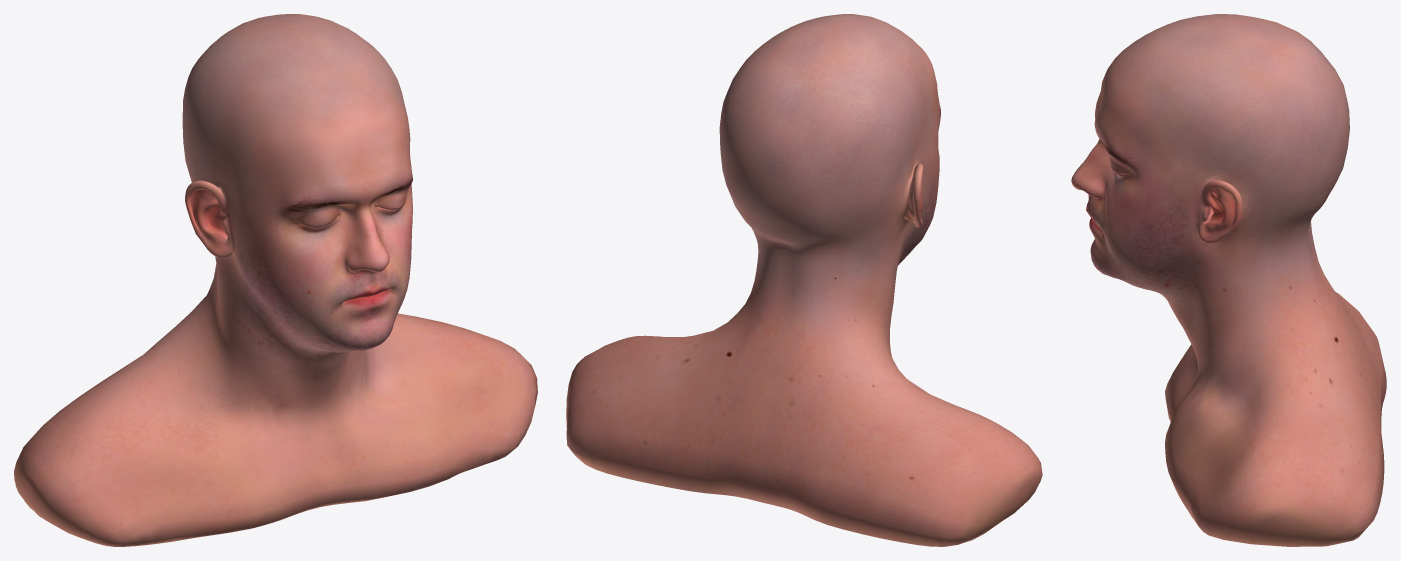
Rendered from head_revised.obj.
3 views of the same model, side by side, from view 1: azimuth 30°, elevation 25°; view 2: azimuth 150°, elevation 25°; view 3: azimuth 270°, elevation 25° (orthographic). The views are drawn at different scales.
Parts seen in each view (by area): view 1: Group19; view 2: Group19; view 3: Group19.
Boxes of the visible parts, x1,y1,x2,y2 form: Group19: [14, 14, 537, 546]; Group19: [566, 14, 1042, 546]; Group19: [1071, 14, 1386, 546].
Size of the model in its own units: 0.4533 by 0.4211 by 0.2746.
